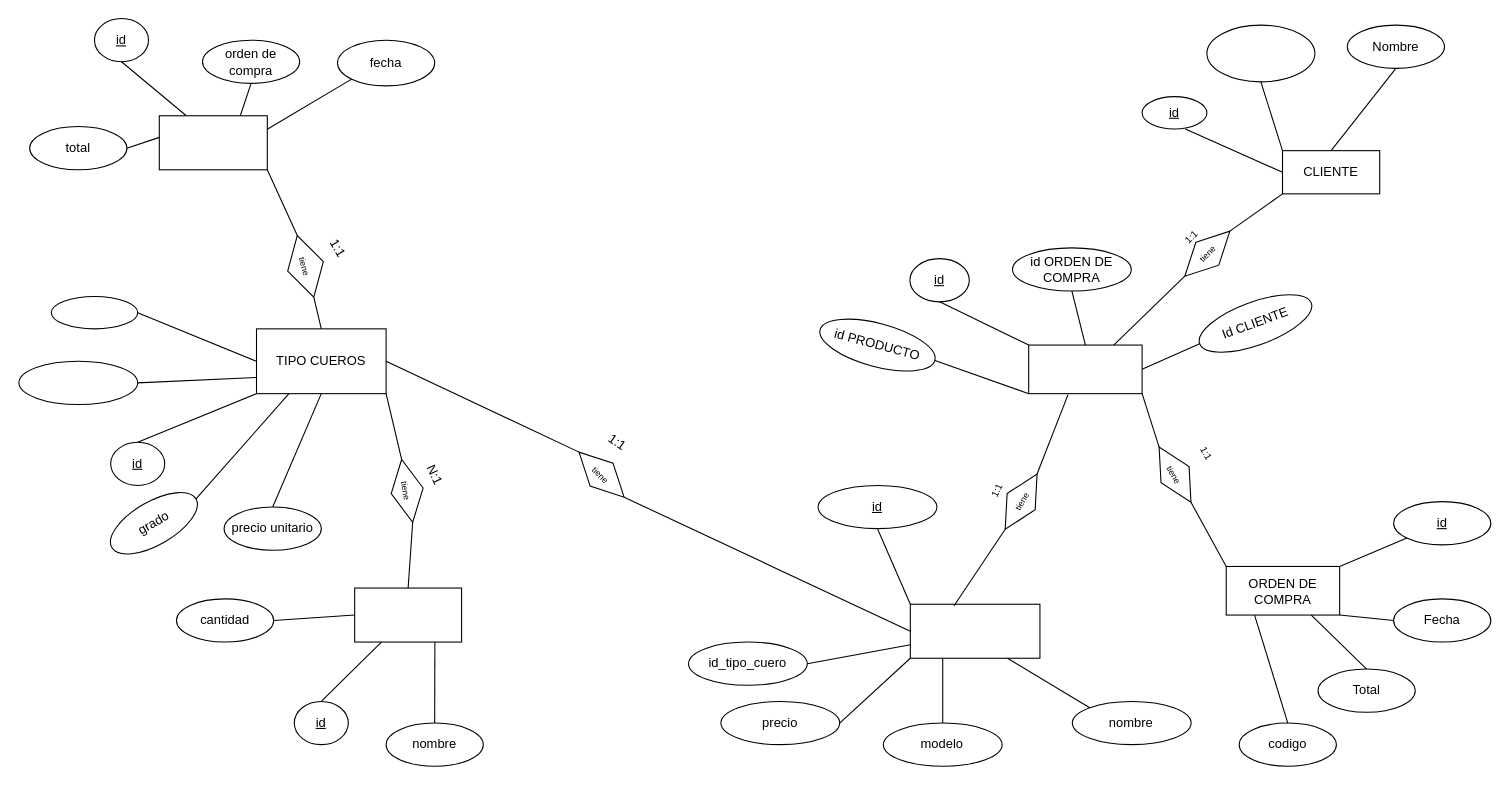
Some shapes in this 1510 by 786 pixel diagram are drawn without their labels. Each missing label, with the box of its shape:
Apellido: (1206, 24, 1315, 82)
id Lote: (18, 360, 138, 404)
id od mp: (50, 295, 138, 329)
LOTE: (354, 587, 462, 642)
OC MP: (158, 115, 267, 170)
PRODUCTO: (909, 603, 1040, 658)
VENTA: (1028, 344, 1142, 394)
